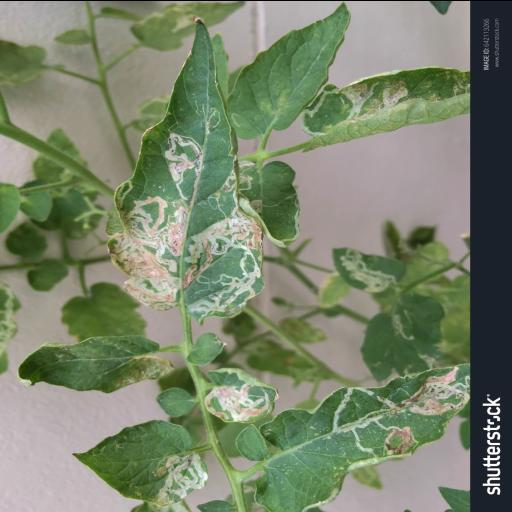Leaf Miner: (104, 12, 266, 328), (234, 362, 469, 512), (299, 65, 471, 153), (70, 418, 210, 506), (204, 368, 282, 424)
